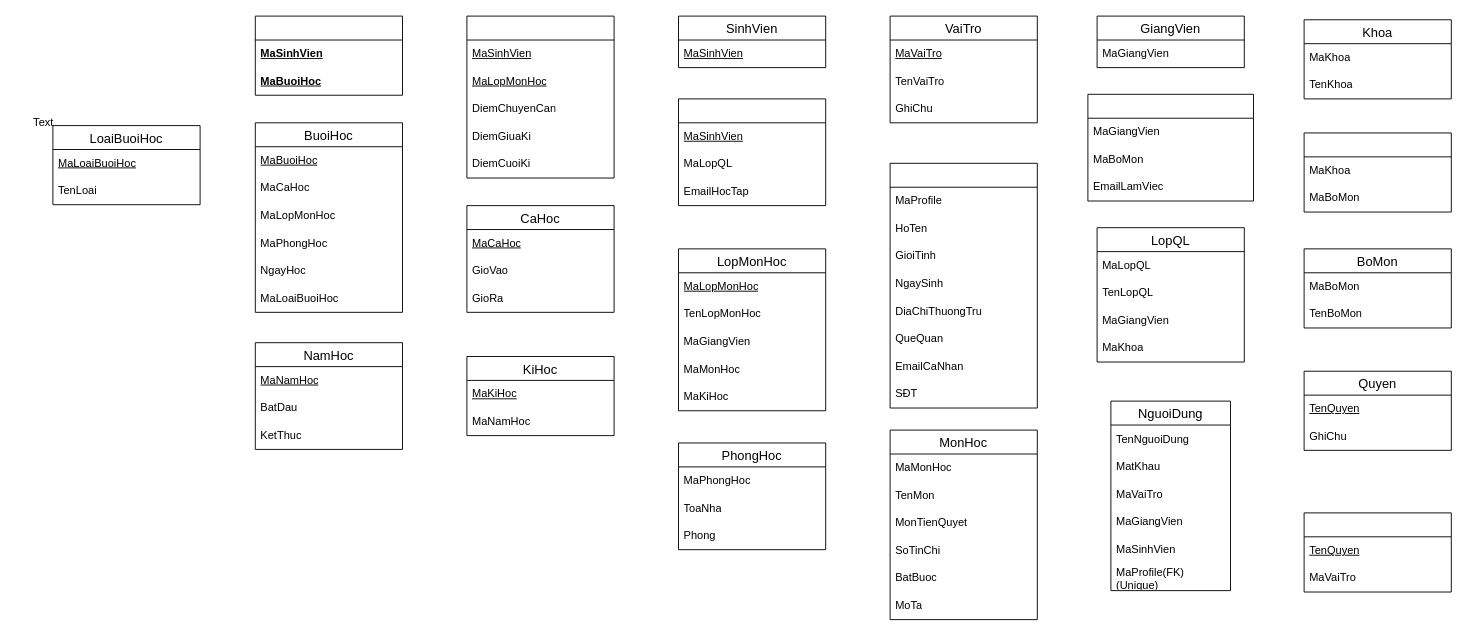
Image size: 1467x636. Some labels were removed from this diagram. Here are the shapes that lost their labels. From the top down, the box of each, then its label:
(254, 15, 402, 95): LichHoc
(466, 15, 614, 178): Diem_SV
(678, 98, 826, 206): SinhVien_profileHocTap
(1087, 93, 1254, 201): GiangVien_profileLamViec
(1303, 132, 1451, 212): Khoa_BoMon
(889, 162, 1037, 408): ProfileCaNhan
(1303, 512, 1451, 592): VaiTro_Quyen
